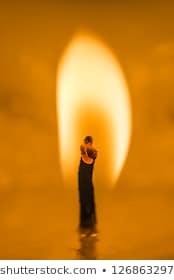Fire: (55, 34, 130, 188)
